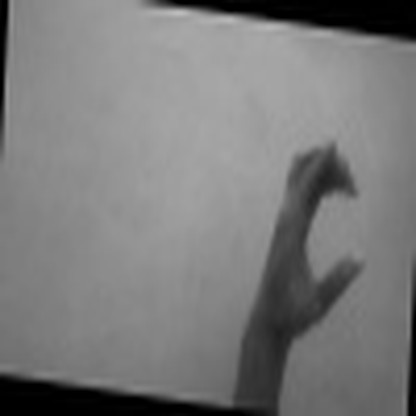c: (267, 133, 367, 336)
